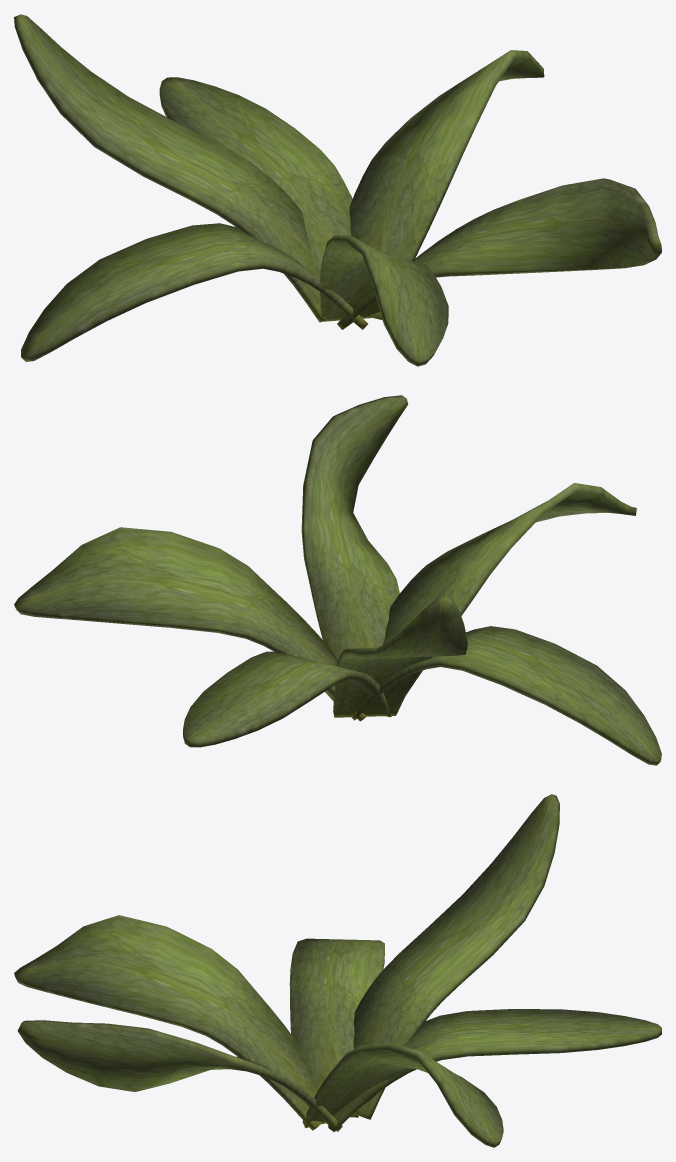
Rendered from calyx1_sb2.dae.
3 views of the same model, one above another, from view 1: azimuth 30°, elevation 25°; view 2: azimuth 150°, elevation 25°; view 3: azimuth 270°, elevation 25° (orthographic). The views are drawn at different scales.
Parts seen in each view (by area): view 1: calyx2, calyx5, calyx3, calyx4_001, calyx1, calyx4; view 2: calyx4_001, calyx5, calyx3, calyx1, calyx4, calyx2; view 3: calyx4, calyx2, calyx5, calyx1, calyx3, calyx4_001.
Part boxes in pixels (x1,y1,x2,y2): calyx2: (14,14,327,322); calyx5: (337,178,661,329); calyx3: (21,223,367,361); calyx4_001: (349,50,544,320); calyx1: (159,77,352,279); calyx4: (320,235,448,366); calyx4_001: (14,527,366,721); calyx5: (301,395,408,660); calyx3: (351,626,661,765); calyx1: (183,651,390,747); calyx4: (383,483,636,716); calyx2: (333,595,467,717); calyx4: (14,915,322,1130); calyx2: (353,794,559,1119); calyx5: (17,1020,342,1131); calyx1: (328,1009,661,1131); calyx3: (289,938,384,1117); calyx4_001: (302,1042,503,1147).
Bounding box in the file's own units: 0.0828 × 0.0864 × 0.0345.
6 materials, 6 textured.
